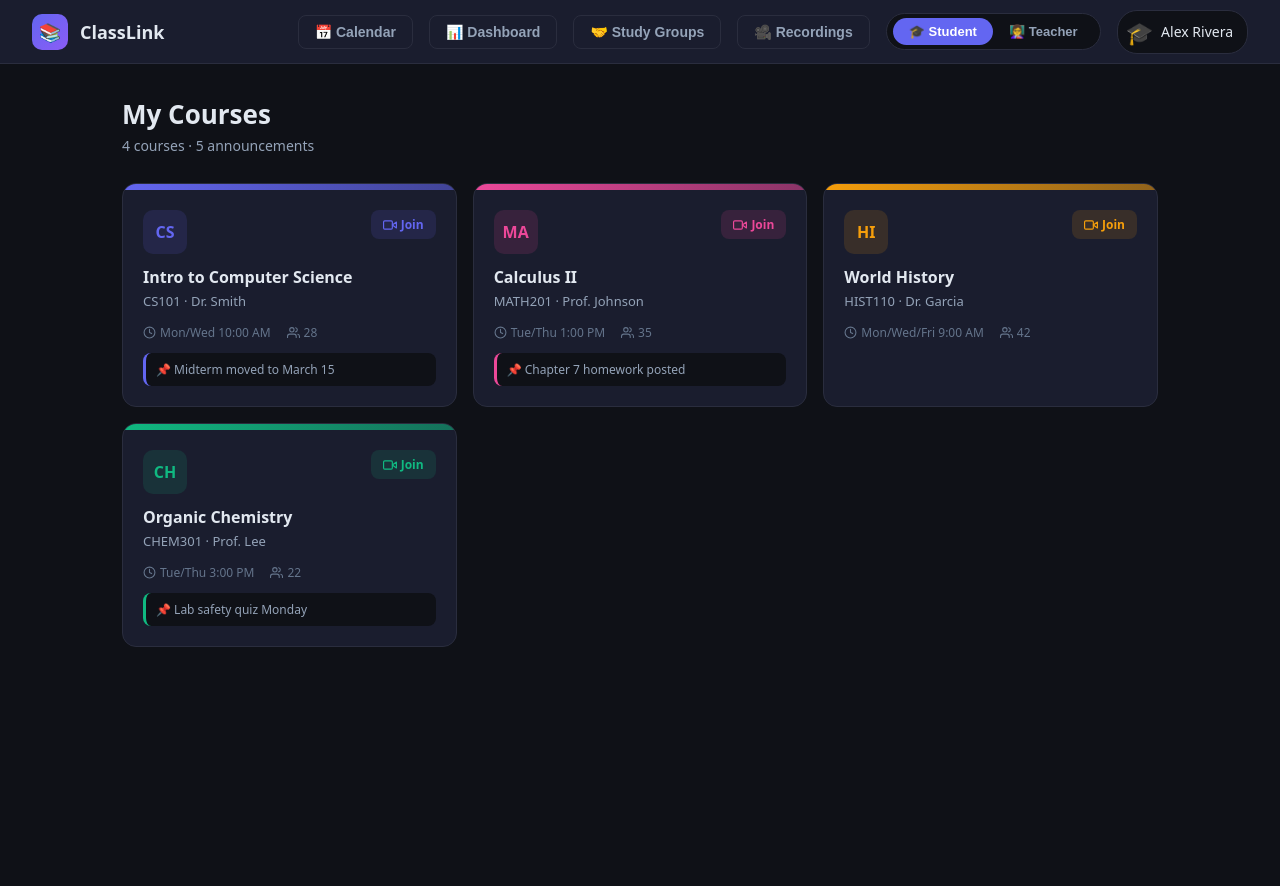
Test: App component › clicking Recordings shows the repository page with recording count
The image size is (1280, 886).
Click the button "🎥 Recordings". click: (804,32)
box: [737,14,870,48]
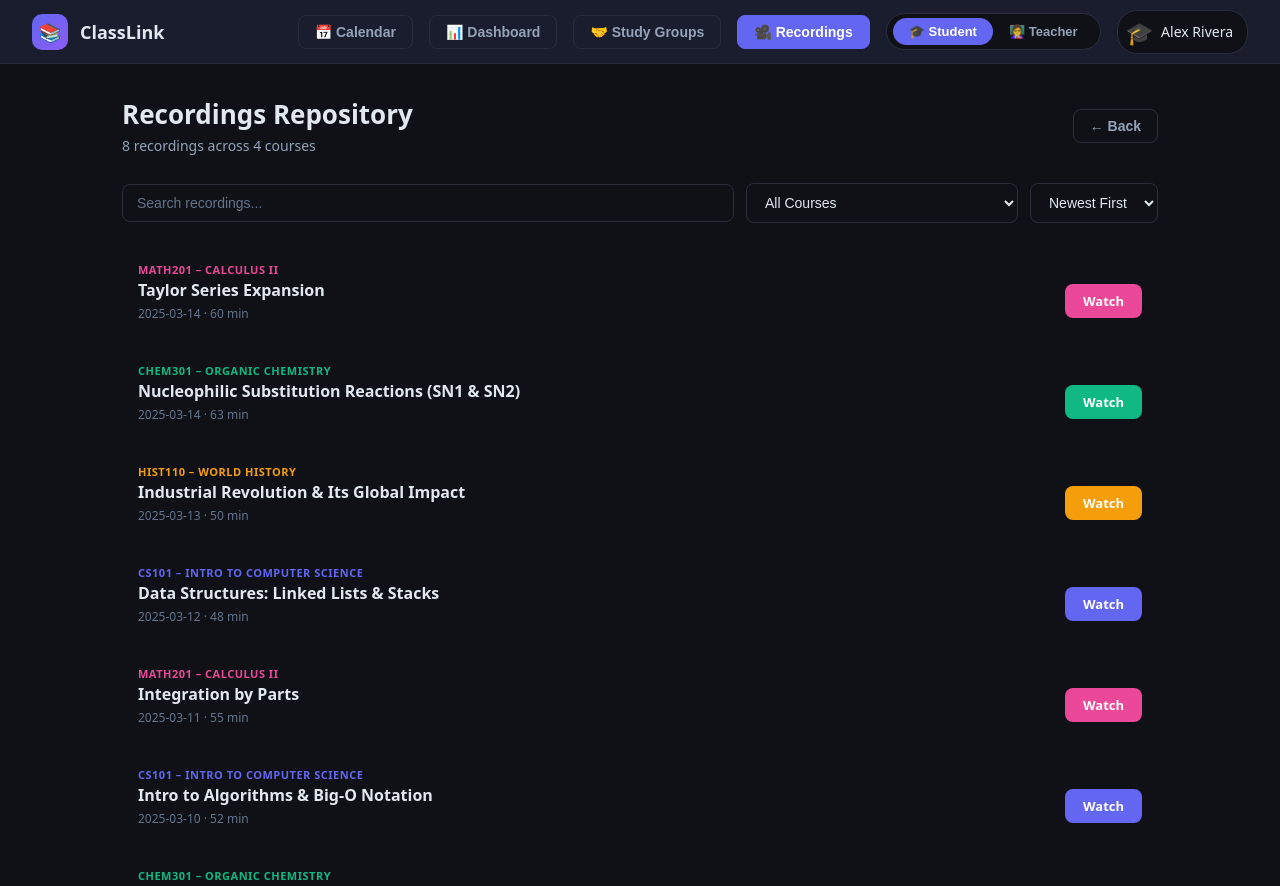
Expected: the heading "Recordings Repository" is shown, [122,96,413,132]
Expected: the text "8 recordings across 4 courses" is shown, [122,136,316,155]
